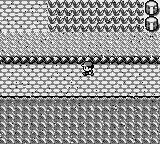captura: (49, 1, 144, 32)
main: (81, 62, 94, 75)
no-caminable: (1, 97, 160, 143), (145, 1, 159, 31)
salto: (0, 56, 160, 64)
